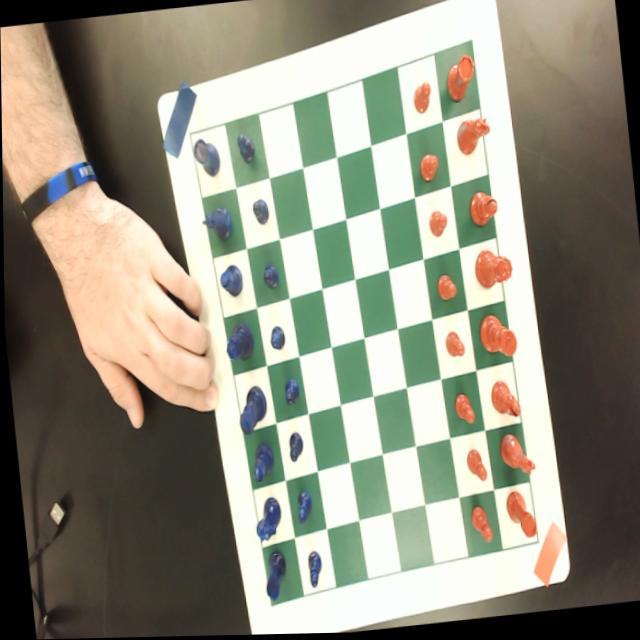B: (249, 442, 274, 484), (217, 265, 243, 299)
K: (234, 384, 268, 437)
N: (249, 496, 282, 546), (198, 203, 233, 247)
P: (235, 132, 257, 168), (304, 550, 322, 590), (293, 490, 312, 525), (280, 377, 300, 410), (285, 432, 304, 463), (250, 198, 270, 227), (267, 325, 286, 352), (261, 264, 279, 292)
Q: (222, 323, 254, 363)
R: (259, 550, 287, 603), (191, 138, 220, 180)
b: (488, 381, 520, 421), (466, 189, 498, 229)
k: (476, 312, 517, 362)
n: (497, 432, 535, 482), (453, 117, 492, 161)
p: (467, 505, 491, 547), (463, 449, 487, 486), (452, 393, 474, 428), (417, 152, 440, 185), (411, 82, 432, 117), (435, 274, 457, 304), (443, 332, 464, 361), (427, 213, 447, 240)
q: (471, 247, 514, 293)
r: (502, 490, 536, 543), (443, 55, 478, 105)
